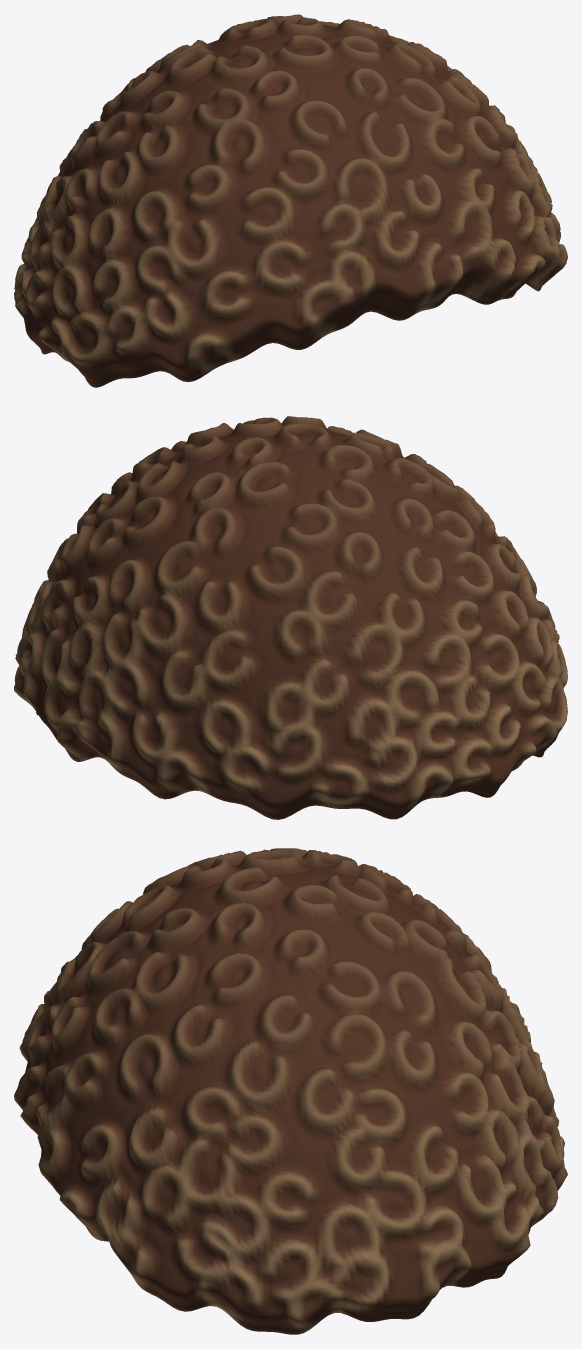
File: Highlights-372594e6ff17251-hair.glb
3 renders of one model, top to bottom at view 1: azimuth 30°, elevation 25°; view 2: azimuth 150°, elevation 25°; view 3: azimuth 270°, elevation 25°, orthographic. The views are drawn at different scales.
Parts seen in each view (by area): view 1: 226 hair / Hair / sculpted afro251; view 2: 226 hair / Hair / sculpted afro251; view 3: 226 hair / Hair / sculpted afro251.
Part boxes in pixels (x1=…): 226 hair / Hair / sculpted afro251: x1=14, y1=14, x2=567, y2=387; 226 hair / Hair / sculpted afro251: x1=14, y1=416, x2=567, y2=819; 226 hair / Hair / sculpted afro251: x1=14, y1=848, x2=567, y2=1334.
Size of the model in its own units: 1.01 by 0.5528 by 0.8348.
